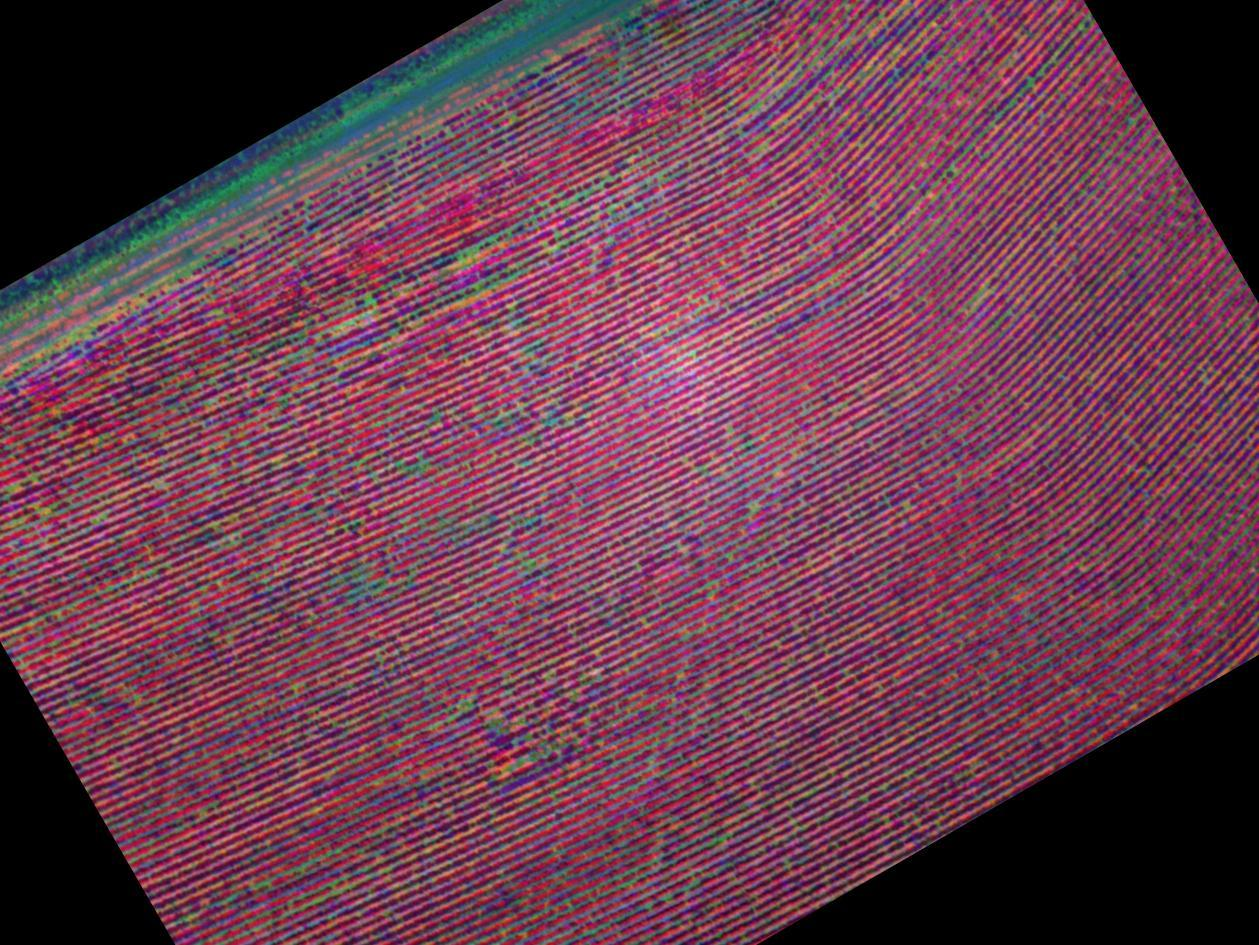dc: (453, 160, 613, 264), (347, 486, 465, 600), (315, 271, 421, 357)
